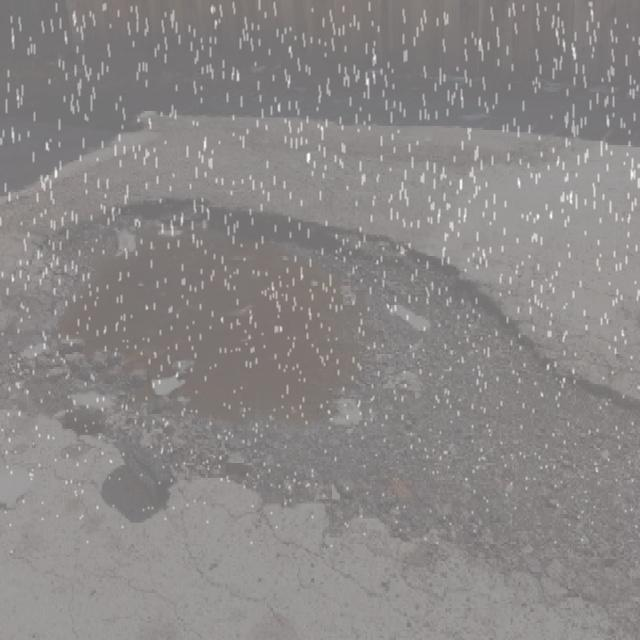Pothole: (5, 184, 640, 573)
